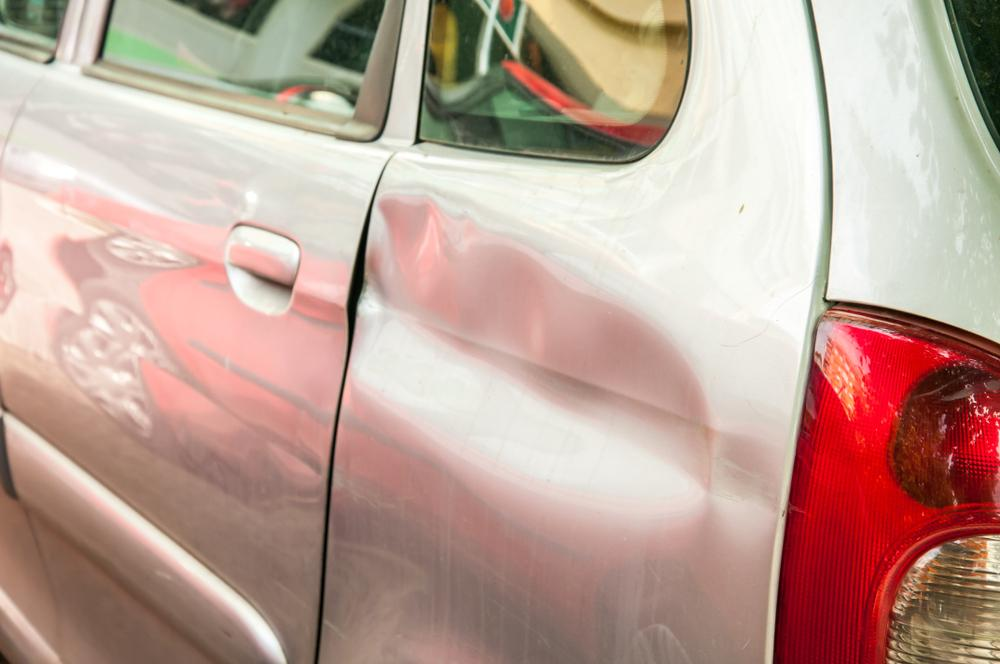dent: (345, 192, 784, 530), (48, 181, 227, 432), (263, 436, 320, 479)
